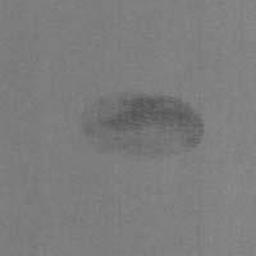Oil spot: (76, 88, 206, 164)
